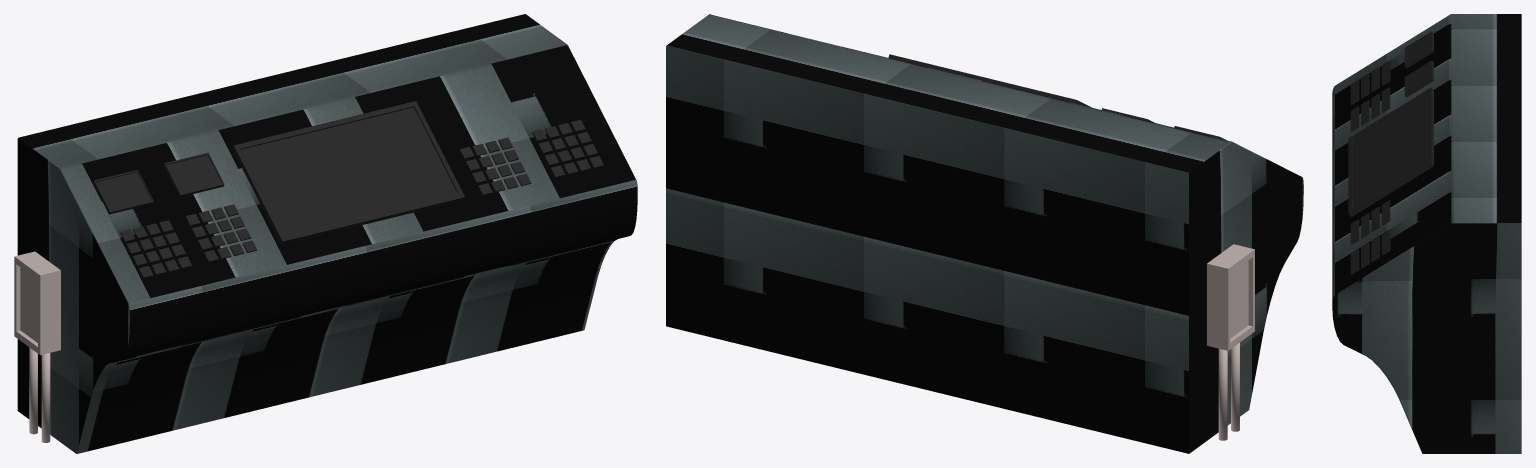
File: control_panel 04.fbx
The picture shows the model from 3 angles, left to right: view 1: azimuth 30°, elevation 25°; view 2: azimuth 150°, elevation 25°; view 3: azimuth 270°, elevation 25°; orthographic projection. The views are drawn at different scales.
Visible parts, largest first — view 1: control_panel base 01, screen_fullHD 01, Buttons 01, ebox_control 01, screens_small 01; view 2: control_panel base 01, ebox_control 01, screen_fullHD 01; view 3: control_panel base 01, screen_fullHD 01, Buttons 01, screens_small 01.
Boxes of the visible parts, bbox=[...] form: control_panel base 01: bbox=[17, 14, 637, 453]; screen_fullHD 01: bbox=[232, 101, 464, 244]; Buttons 01: bbox=[120, 119, 603, 278]; ebox_control 01: bbox=[14, 251, 60, 442]; screens_small 01: bbox=[93, 152, 224, 214]; control_panel base 01: bbox=[666, 14, 1303, 453]; ebox_control 01: bbox=[1207, 244, 1254, 440]; screen_fullHD 01: bbox=[888, 54, 1091, 107]; control_panel base 01: bbox=[1332, 14, 1521, 453]; screen_fullHD 01: bbox=[1348, 87, 1433, 216]; Buttons 01: bbox=[1350, 60, 1390, 274]; screens_small 01: bbox=[1404, 31, 1433, 97].
Bounding box in the file's own units: 242 × 120 × 88.87.
